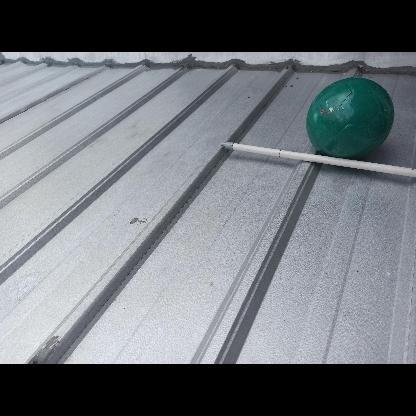green_ball: (304, 72, 396, 162)
